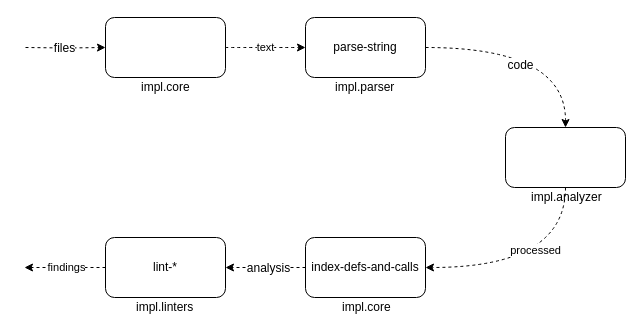
The diagram is 643 pixels wide and 335 high, and some of its shapes have lost their labels. The shapes that lost their labels are listed below. From the top down, each one's centre as x and y in pixels, then its label:
At pixel 165 47: "process-files".
At pixel 565 157: "analyze-expressions".
